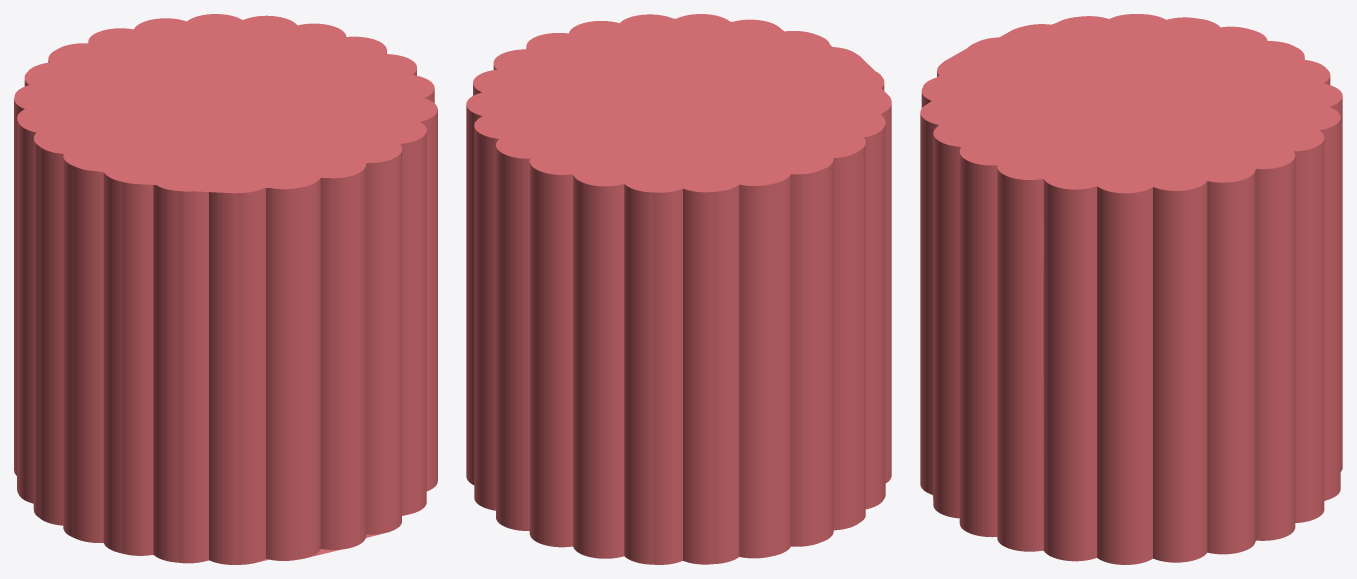
The model's file is cyliderarray1.glb.
The picture shows the model from 3 angles, left to right: view 1: azimuth 30°, elevation 25°; view 2: azimuth 150°, elevation 25°; view 3: azimuth 270°, elevation 25°; orthographic projection.
Visible parts, largest first — view 1: Cylinder; view 2: Cylinder; view 3: Cylinder.
Part boxes in pixels (left/top/right/bottom): Cylinder: left=14, top=14, right=437, bottom=564; Cylinder: left=466, top=14, right=891, bottom=564; Cylinder: left=920, top=14, right=1342, bottom=564.
Bounding box in the file's own units: 13.06 × 12.62 × 13.
